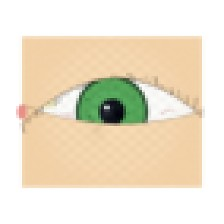pinguecula_lesion: (25, 87, 66, 120)
